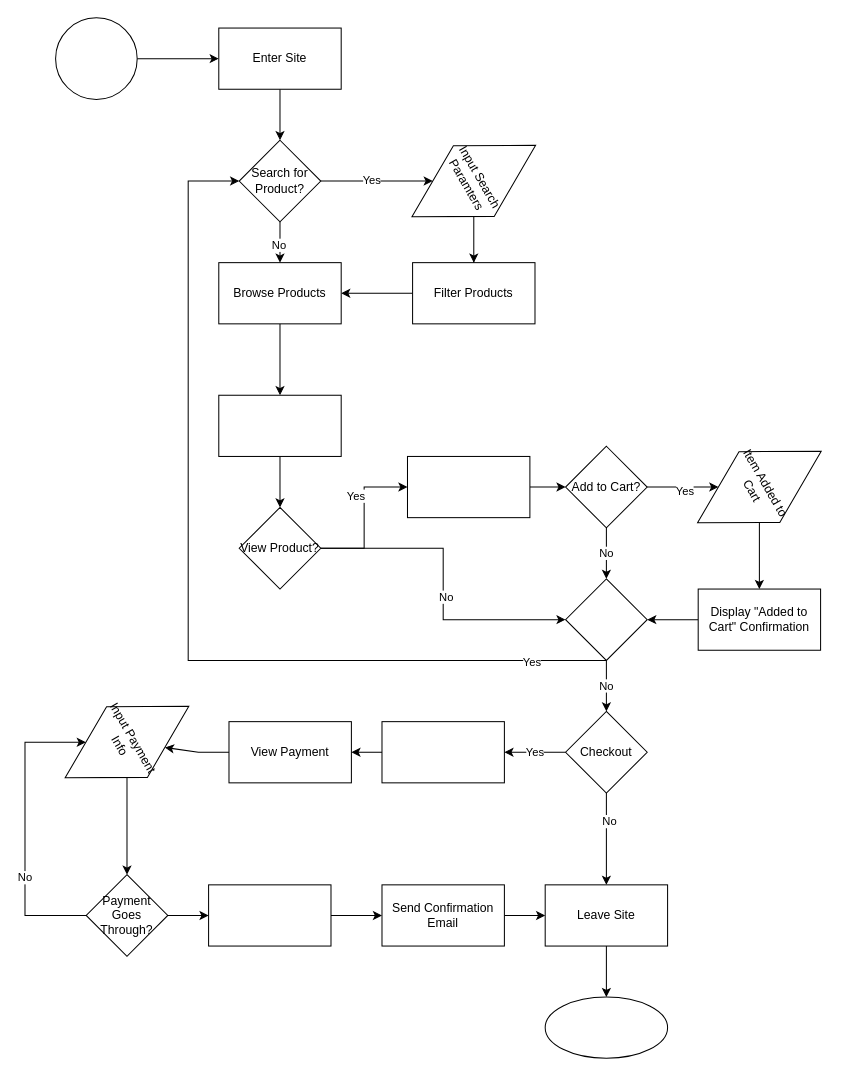
Some shapes in this 860 by 1076 pixel diagram are drawn without their labels. The box of each missing label's shape, as (x1, y1, x2, y2) in pixels:
Continue Shopping?: (565, 578, 647, 660)
End: (544, 996, 668, 1058)
Open Product Page: (406, 455, 530, 518)
Select Product: (218, 394, 341, 456)
Show Order Confirmation: (208, 884, 331, 946)
Start: (55, 17, 137, 99)
View Cart: (381, 721, 504, 783)
